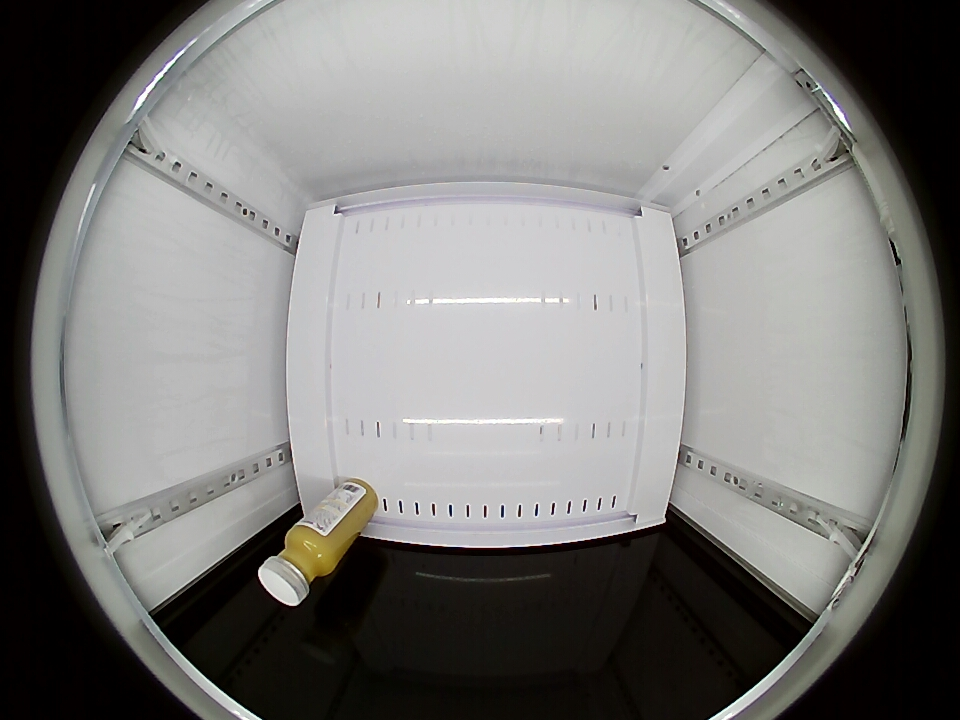nfc: (258, 522, 341, 606)
